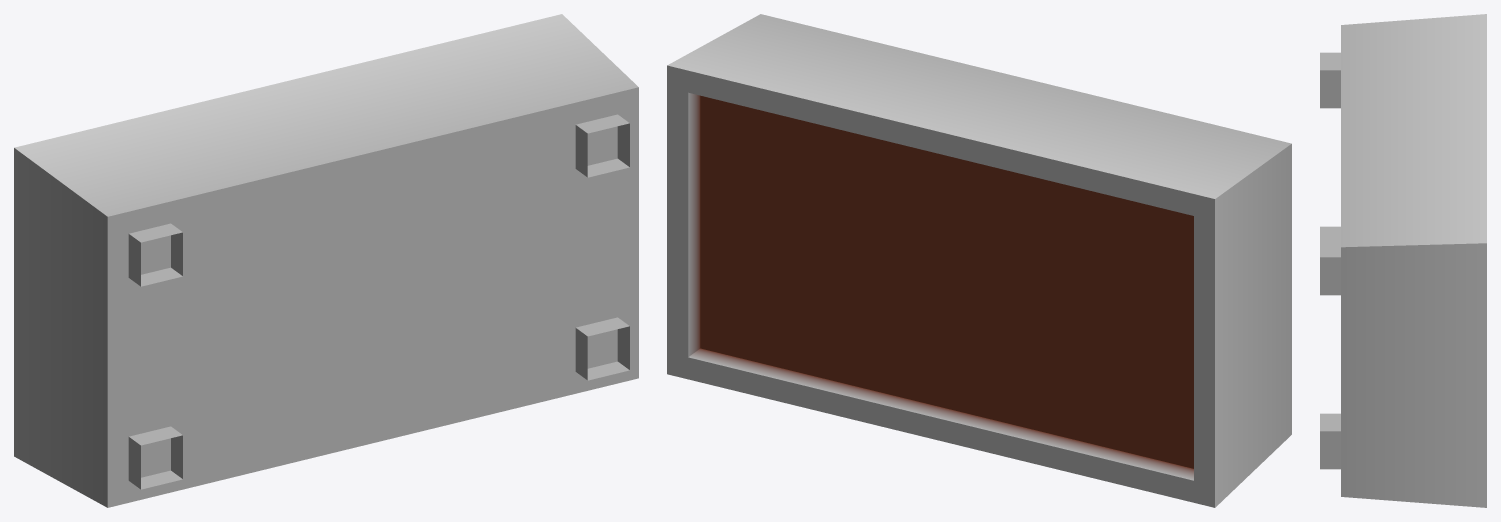
The picture shows the model from 3 angles, left to right: view 1: azimuth 30°, elevation 25°; view 2: azimuth 150°, elevation 25°; view 3: azimuth 270°, elevation 25°; orthographic projection. The views are drawn at different scales.
Parts seen in each view (by area): view 1: SM_000604.001; view 2: SM_000604.001; view 3: SM_000604.001.
Part boxes in pixels (<box>): SM_000604.001: <box>14,14,638,507</box>; SM_000604.001: <box>667,14,1291,507</box>; SM_000604.001: <box>1320,14,1486,507</box>.
Size of the model in its own units: 1.3 by 0.7 by 0.4.
